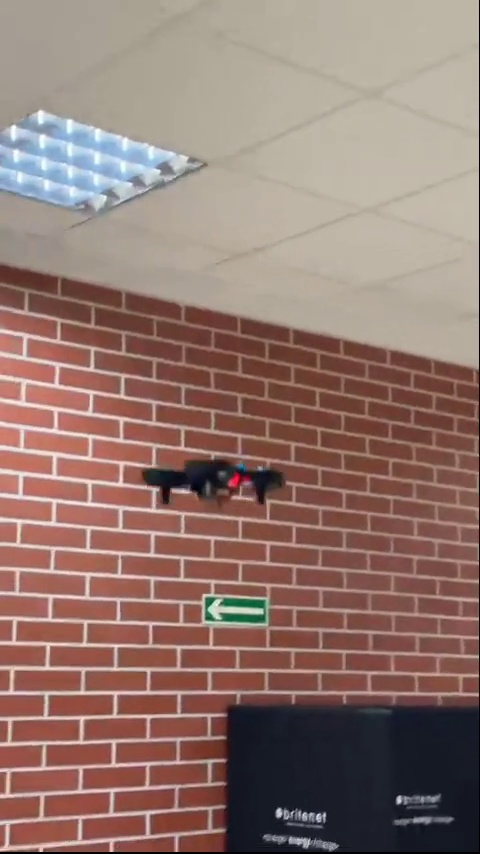drone: (145, 457, 287, 510)
